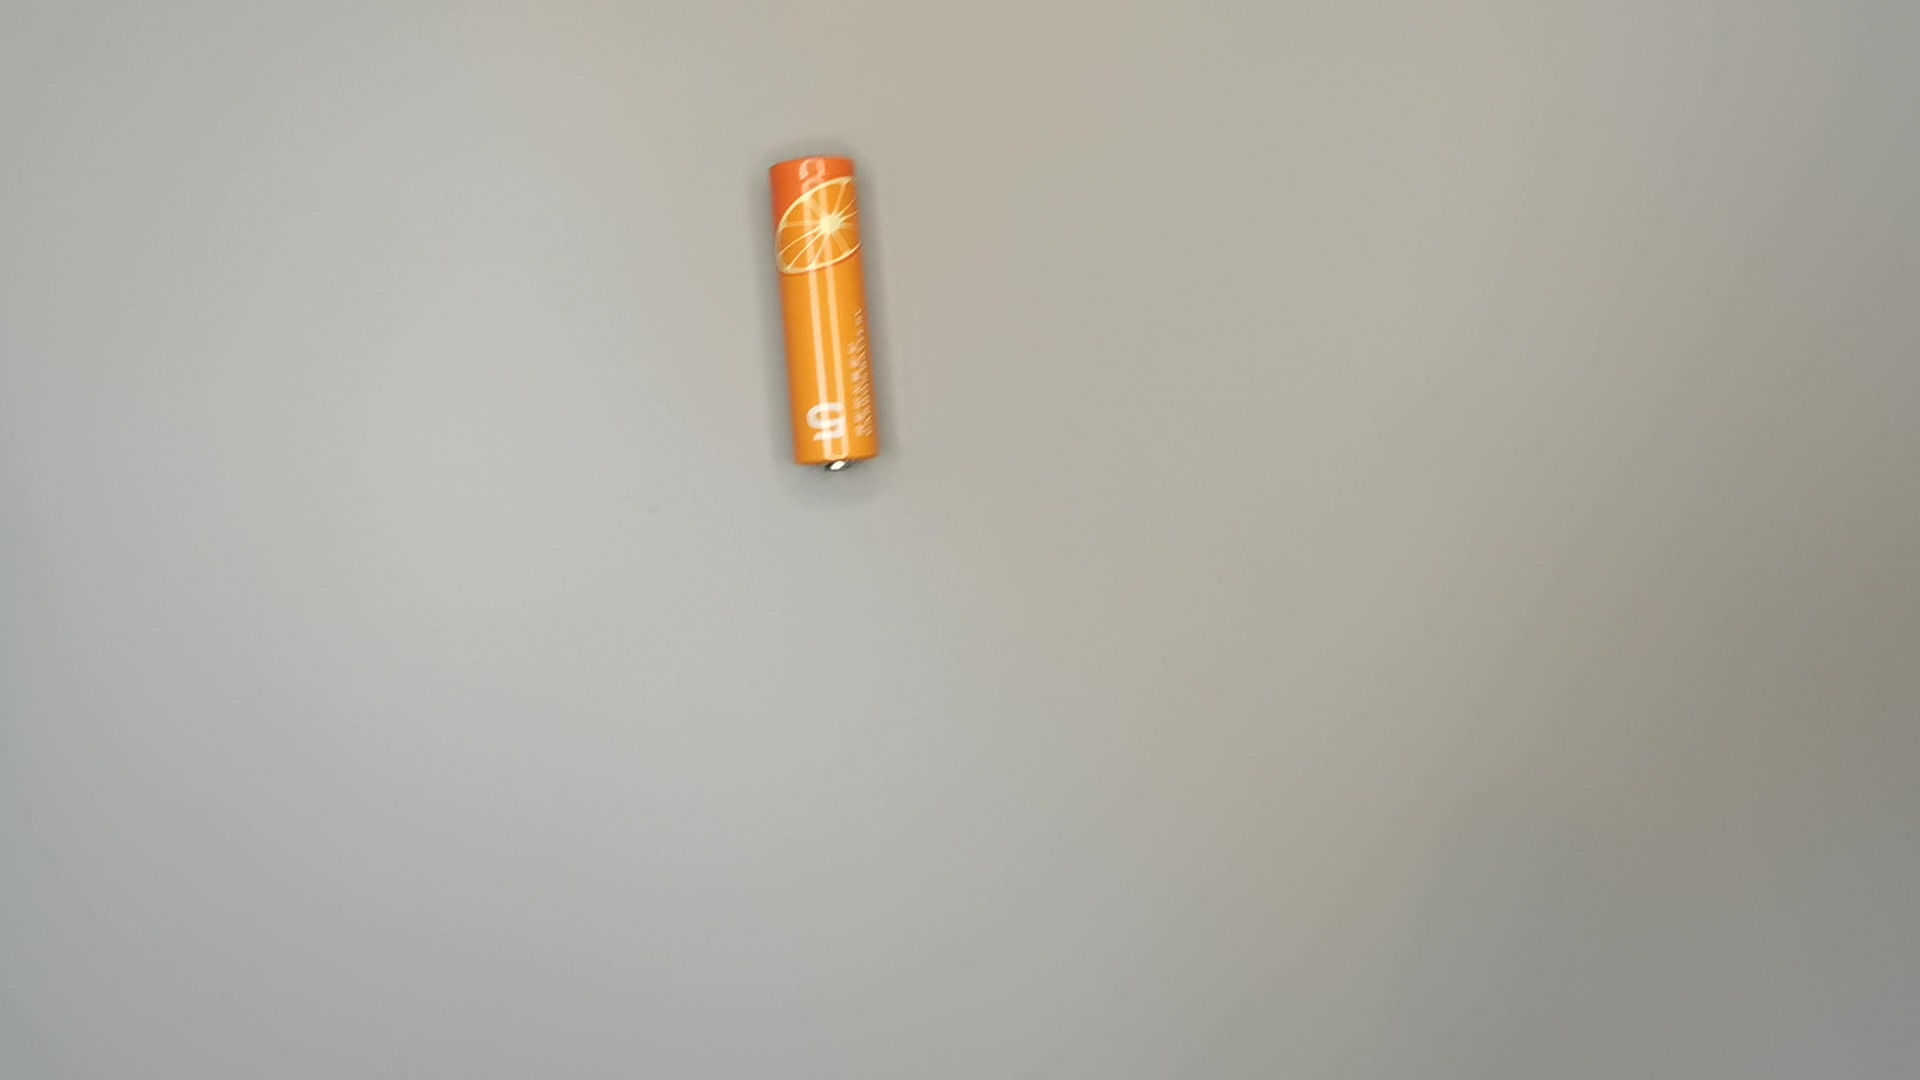battery: (764, 149, 895, 483)
